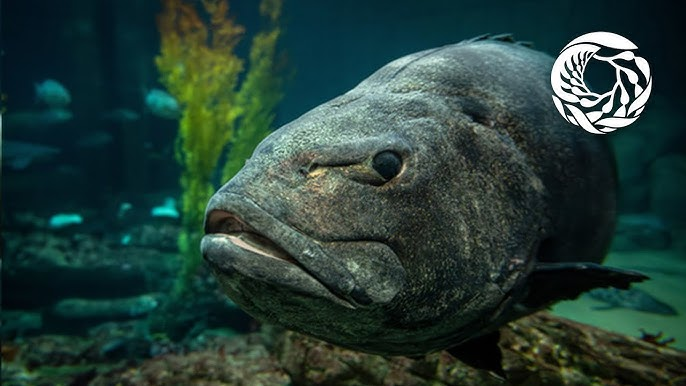Giant Bass: (159, 33, 686, 358)
